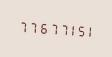five: (71, 21, 79, 38)
one: (80, 21, 88, 39), (62, 20, 70, 37)
seven: (26, 17, 34, 35), (53, 19, 61, 37), (17, 17, 25, 34), (44, 19, 52, 36)
six: (35, 18, 43, 36)
